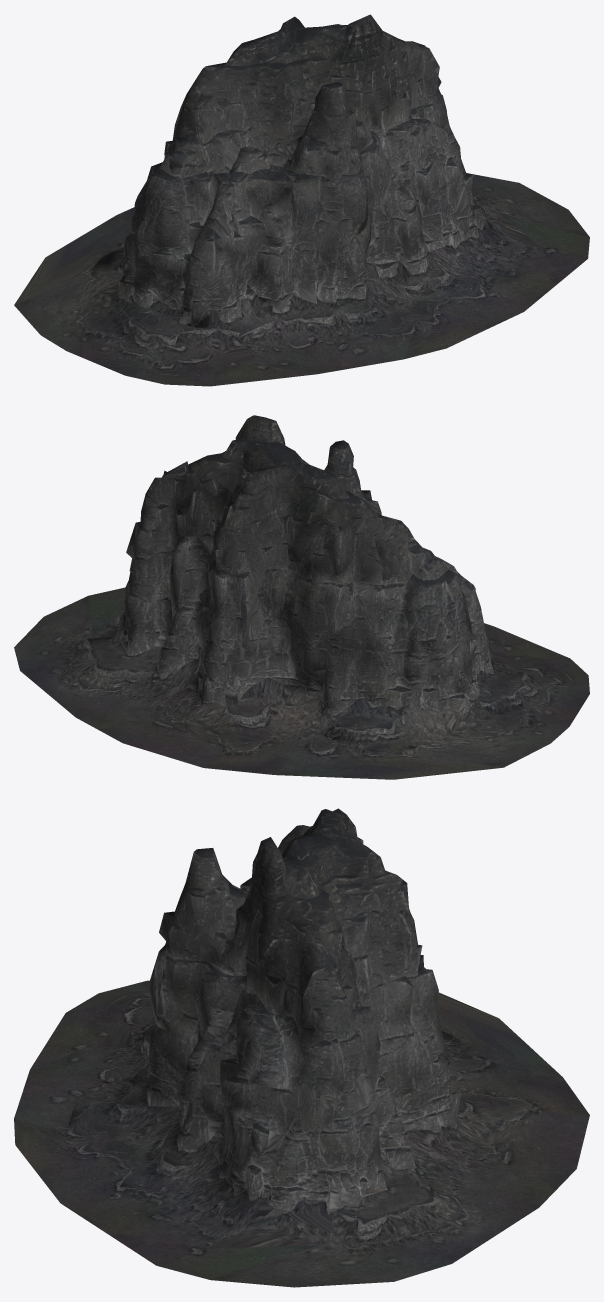
Rendered from Mountain_01_4K_GREY.fbx.
The picture shows the model from 3 angles, top to bottom: view 1: azimuth 30°, elevation 25°; view 2: azimuth 150°, elevation 25°; view 3: azimuth 270°, elevation 25°; orthographic projection. The views are drawn at different scales.
Visible parts, largest first — view 1: Mountain_01_4K_GREY; view 2: Mountain_01_4K_GREY; view 3: Mountain_01_4K_GREY.
Boxes of the visible parts, x1,y1,x2,y2 form: Mountain_01_4K_GREY: (14,14,589,386); Mountain_01_4K_GREY: (14,415,589,779); Mountain_01_4K_GREY: (14,808,589,1287).
Bounding box in the file's own units: 278 × 128 × 212.
1 material, 1 textured.
